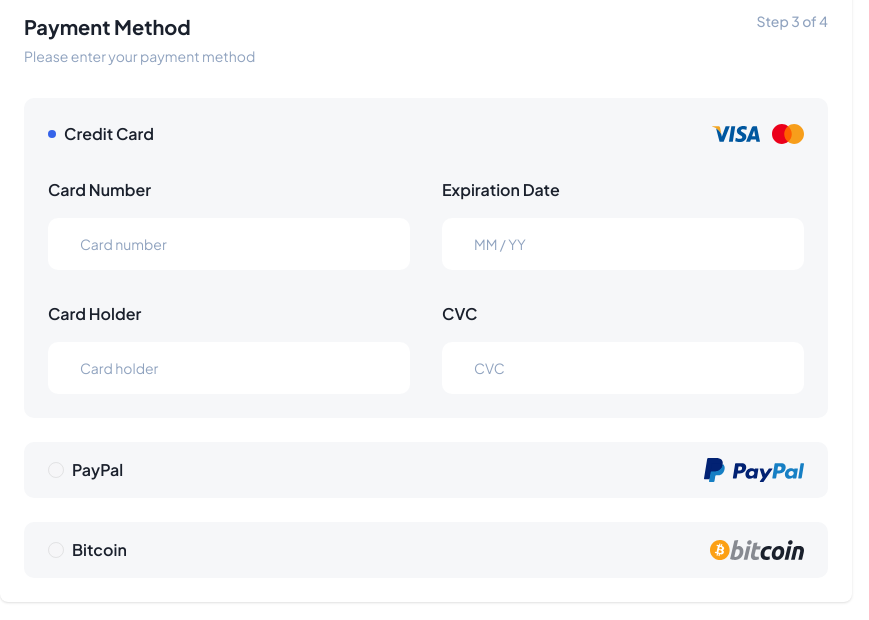
Test case: PaymentMethod › allows typing into the card number field
Type "4111111111111111" into the field labelled "Card Number".
click(229, 244); type("4111111111111111")  # box x1=48 y1=218 x2=410 y2=270
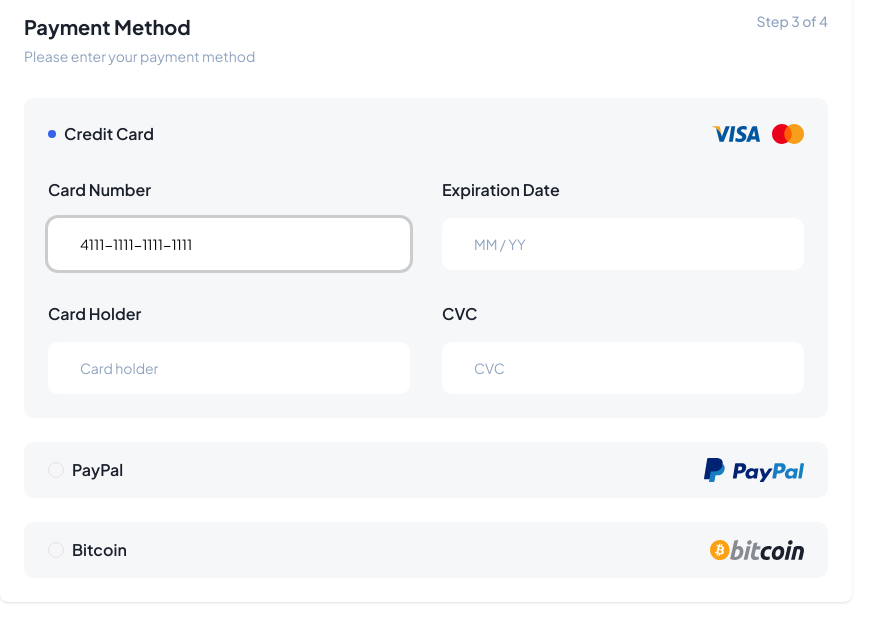
Expected: the field labelled "Card Number" holds "4111-1111-1111-1111", x1=48 y1=218 x2=410 y2=270
